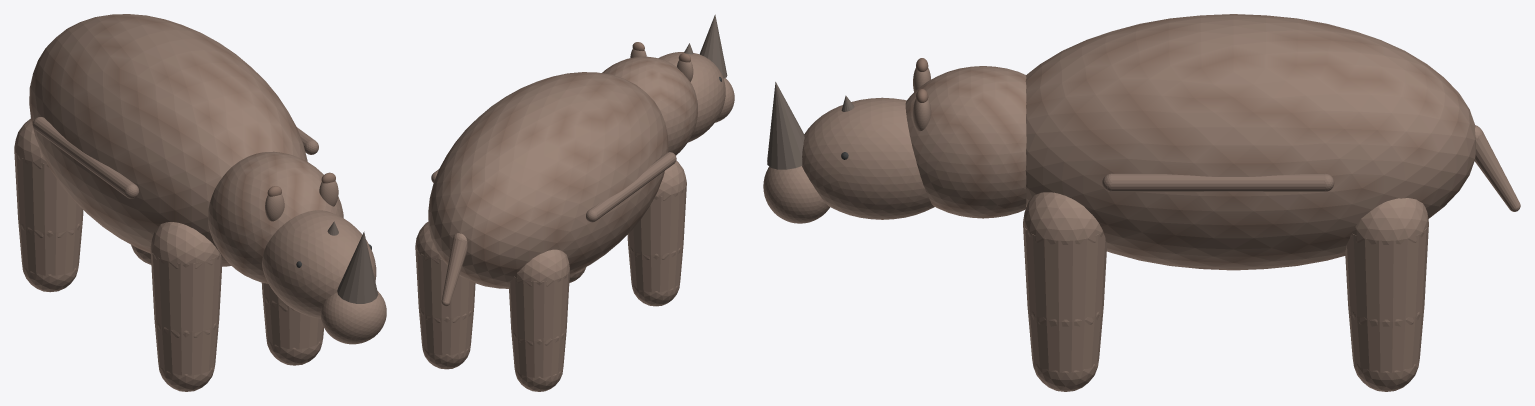
The model's file is badak-sumatra.glb.
The picture shows the model from 3 angles, left to right: view 1: azimuth 30°, elevation 25°; view 2: azimuth 150°, elevation 25°; view 3: azimuth 270°, elevation 25°; orthographic projection. The views are drawn at different scales.
Visible parts, largest first — view 1: badak-sumatra; view 2: badak-sumatra; view 3: badak-sumatra.
Boxes of the visible parts, x1,y1,x2,y2 form: badak-sumatra: (14,14,386,391); badak-sumatra: (415,14,734,391); badak-sumatra: (763,14,1520,391).
Size of the model in its own units: 0.86 by 1.2 by 2.48.
